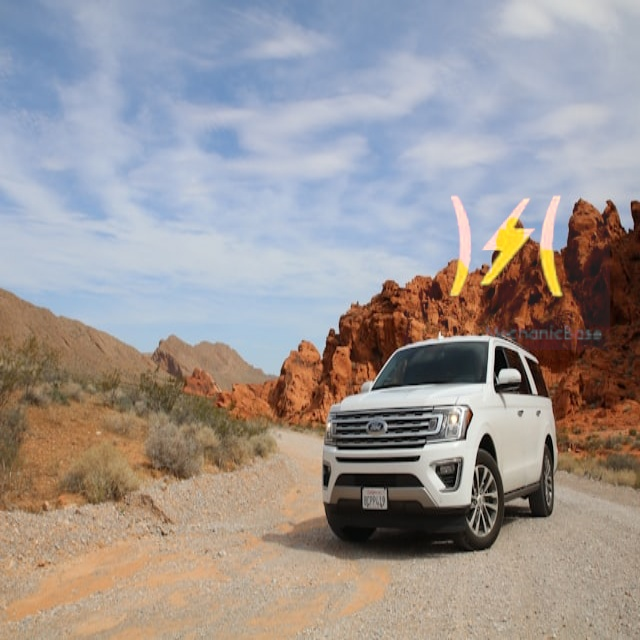symbol: (403, 143, 610, 350)
